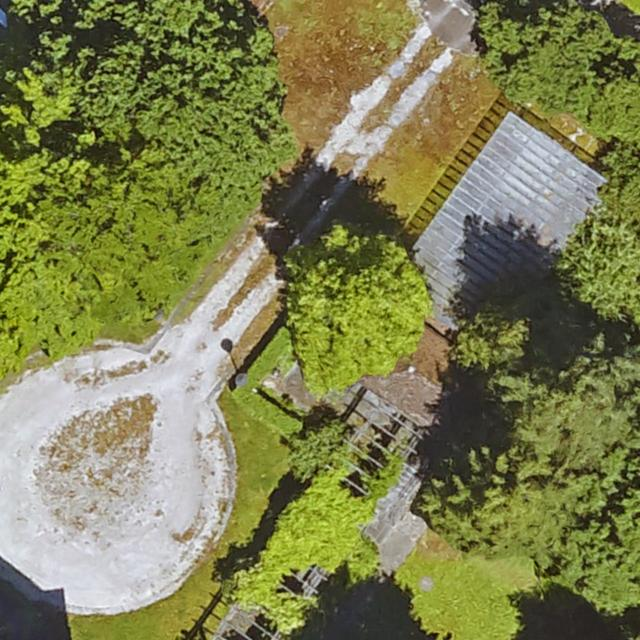tree: (0, 0, 275, 315), (425, 329, 640, 613), (283, 236, 432, 380), (560, 139, 640, 323), (479, 1, 612, 105), (450, 307, 532, 379), (587, 39, 640, 140), (290, 417, 356, 480)
